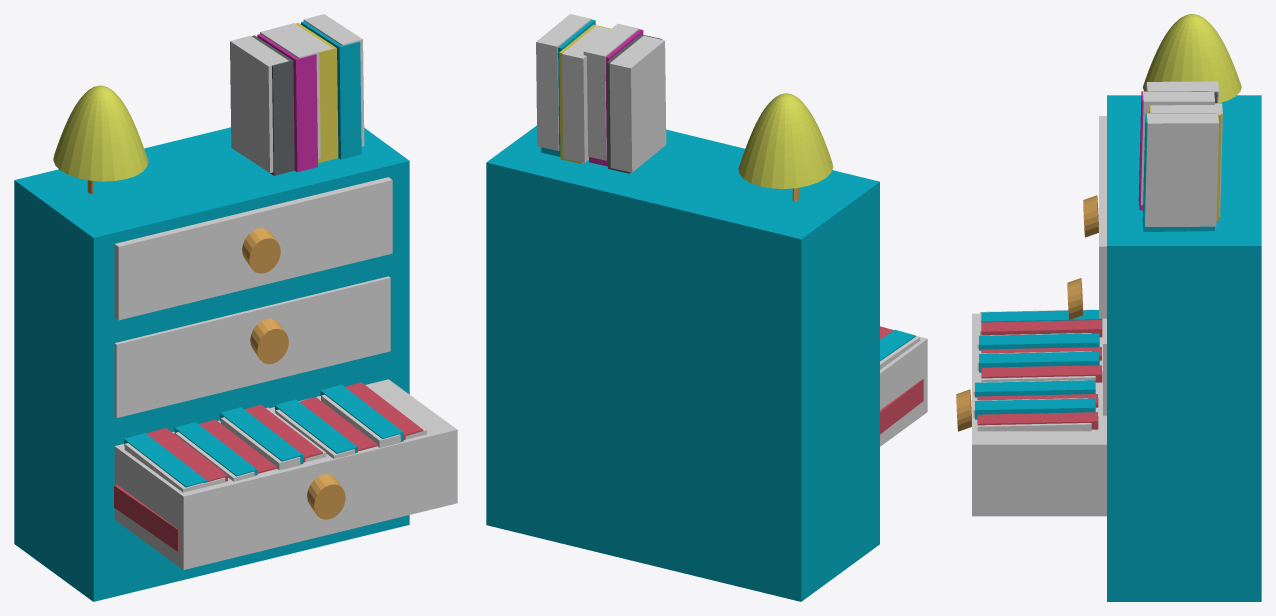
File: class 149 project.glb
The picture shows the model from 3 angles, left to right: view 1: azimuth 30°, elevation 25°; view 2: azimuth 150°, elevation 25°; view 3: azimuth 270°, elevation 25°; orthographic projection. The views are drawn at different scales.
Parts seen in each view (by area): view 1: Mesh_Mesh_head_geo.001_lambert2SG.001; view 2: Mesh_Mesh_head_geo.001_lambert2SG.001; view 3: Mesh_Mesh_head_geo.001_lambert2SG.001.
Part boxes in pixels (box(x1,y1,x2,y2)): Mesh_Mesh_head_geo.001_lambert2SG.001: box(14, 14, 457, 601); Mesh_Mesh_head_geo.001_lambert2SG.001: box(486, 14, 927, 601); Mesh_Mesh_head_geo.001_lambert2SG.001: box(956, 14, 1261, 601).
Bounding box in the file's own units: 90 × 130 × 77.
